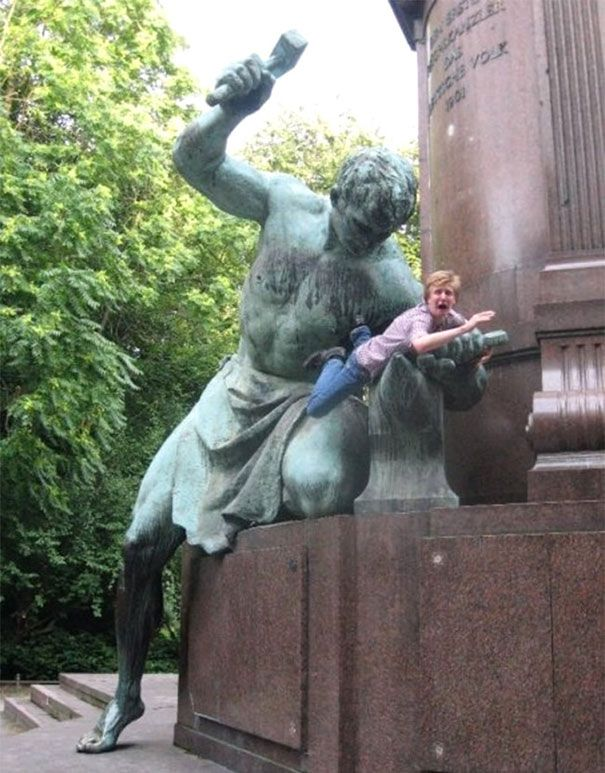person: (299, 267, 497, 424)
person-like: (74, 23, 514, 762)
